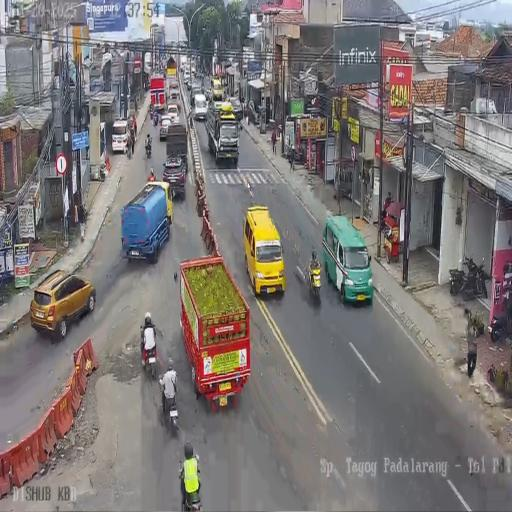car: (319, 214, 371, 306), (30, 270, 96, 338), (244, 204, 284, 296), (162, 154, 187, 200), (112, 119, 132, 154), (193, 93, 208, 121), (159, 116, 171, 140), (212, 76, 223, 100), (166, 103, 179, 121), (169, 85, 179, 102), (183, 66, 190, 82), (204, 88, 212, 102), (191, 65, 196, 77), (180, 64, 185, 72)
motorcycle: (448, 252, 488, 301), (489, 266, 512, 342), (141, 327, 158, 378), (166, 390, 180, 433), (145, 139, 152, 159), (276, 122, 282, 139), (153, 109, 158, 126)
truck: (177, 256, 249, 410), (120, 182, 173, 263), (205, 103, 240, 165), (149, 74, 166, 113), (144, 52, 152, 74)
